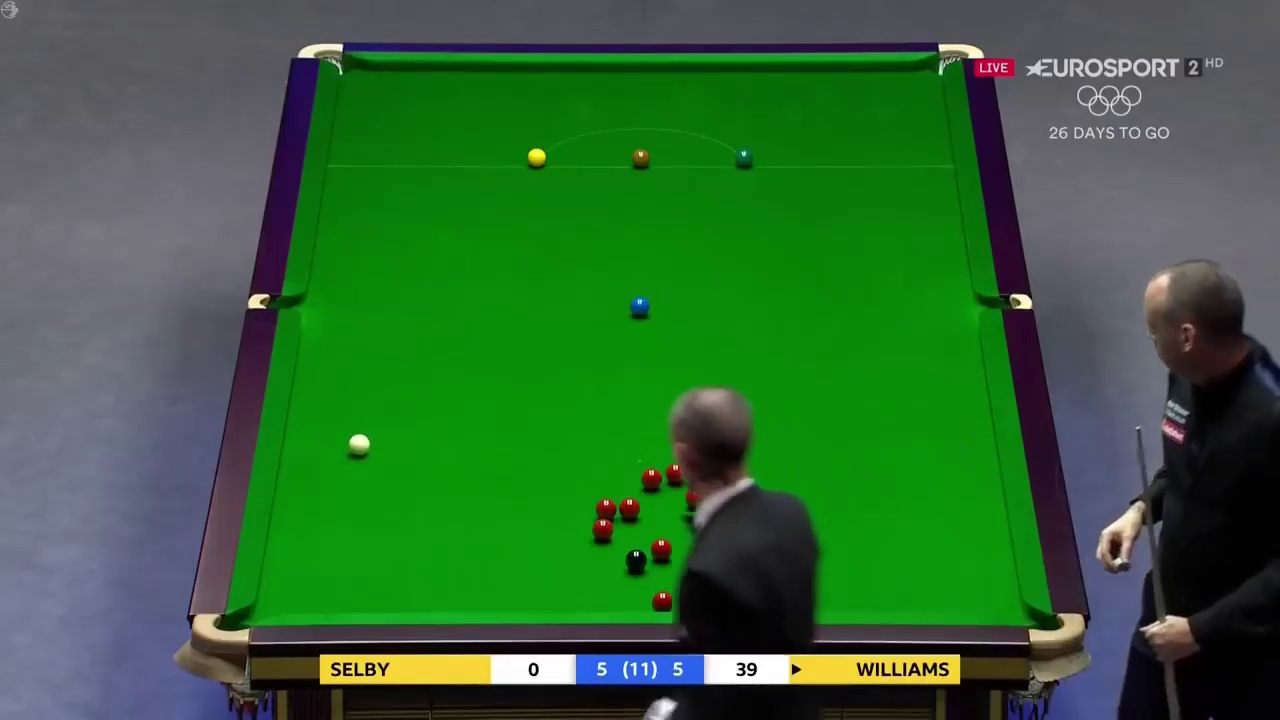ball: (589, 516, 617, 541), (344, 432, 374, 455), (617, 497, 642, 524), (652, 535, 672, 566), (625, 549, 649, 573), (629, 146, 652, 170), (638, 469, 663, 491), (629, 296, 651, 320), (525, 149, 548, 168), (734, 149, 753, 169)
